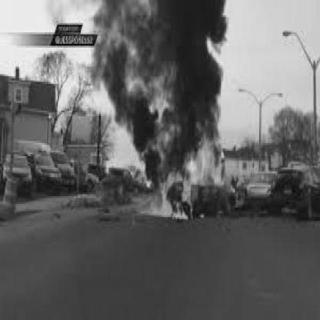Fire: (154, 125, 224, 217)
Smoke: (85, 0, 229, 132)
